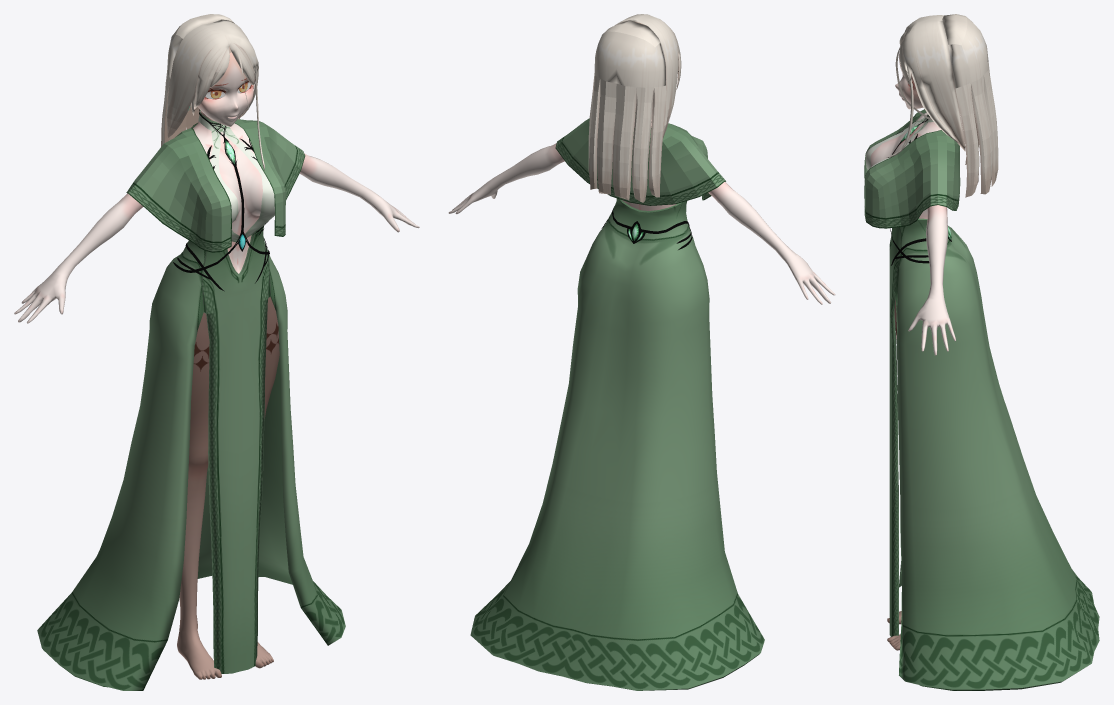
Rendered from Boss1.fbx.
3 views of the same model, side by side, from view 1: azimuth 30°, elevation 25°; view 2: azimuth 150°, elevation 25°; view 3: azimuth 270°, elevation 25° (orthographic). The views are drawn at different scales.
Visible parts, largest first — view 1: Object016; view 2: Object016; view 3: Object016.
Boxes of the visible parts, x1,y1,x2,y2 form: Object016: (14,14,419,690); Object016: (448,14,835,690); Object016: (864,14,1099,690).
Bounding box in the file's own units: 54.94 × 83.55 × 28.98.
3 materials, 3 textured.
